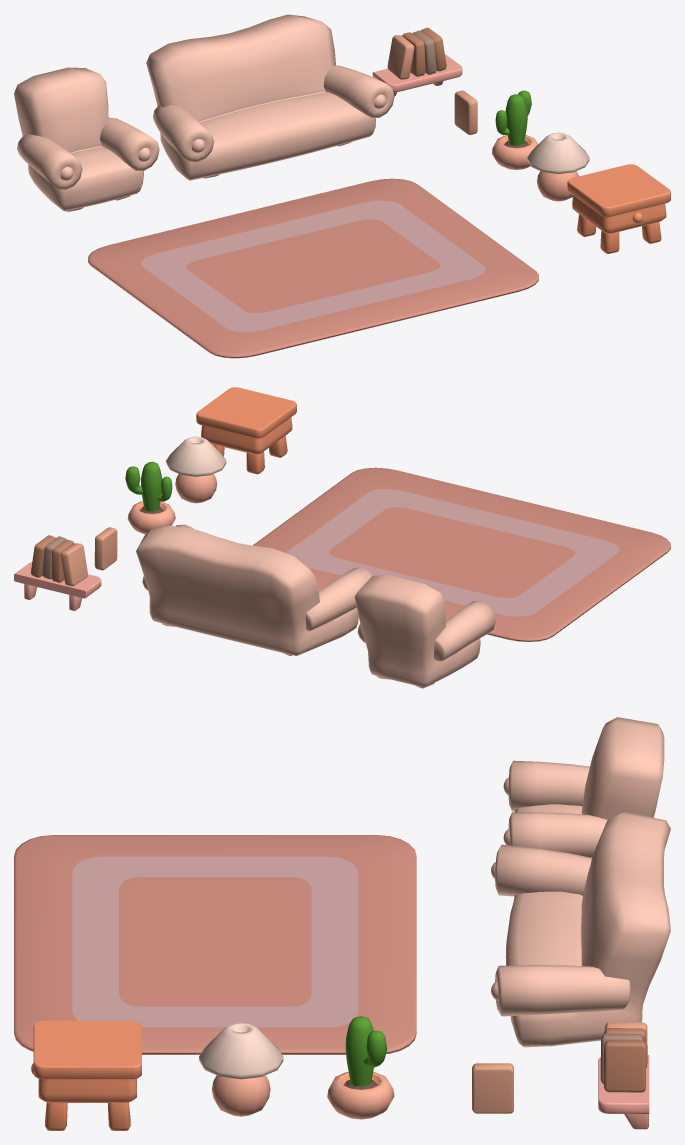
Rendered from SliderScene.gltf.
3 views of the same model, one above another, from view 1: azimuth 30°, elevation 25°; view 2: azimuth 150°, elevation 25°; view 3: azimuth 270°, elevation 25° (orthographic). The views are drawn at different scales.
Visible parts, largest first — view 1: carpet, sofa 2, sofa 1, table, shelf, lamp, plant, book; view 2: carpet, sofa 2, sofa 1, table, shelf, lamp, plant, book; view 3: carpet, sofa 2, sofa 1, table, lamp, shelf, plant, book.
Boxes of the visible parts, x1,y1,x2,y2 form: carpet: [88, 178, 538, 358]; sofa 2: [146, 14, 394, 180]; sofa 1: [14, 67, 159, 211]; table: [567, 164, 670, 253]; shelf: [372, 27, 462, 95]; lamp: [527, 132, 589, 201]; plant: [491, 90, 538, 169]; book: [454, 90, 477, 134]; carpet: [253, 467, 670, 641]; sofa 2: [136, 524, 371, 656]; sofa 1: [354, 575, 495, 688]; table: [196, 387, 296, 474]; shelf: [14, 535, 101, 610]; lamp: [166, 436, 226, 503]; plant: [125, 461, 175, 534]; book: [94, 527, 117, 570]; carpet: [14, 835, 416, 1054]; sofa 2: [491, 812, 670, 1047]; sofa 1: [503, 717, 664, 857]; table: [31, 1020, 141, 1130]; lamp: [199, 1023, 283, 1116]; shelf: [598, 1022, 649, 1129]; plant: [327, 1016, 394, 1119]; book: [472, 1063, 513, 1113].
Size of the model in its own units: 6.47 by 1.46 by 5.93.
